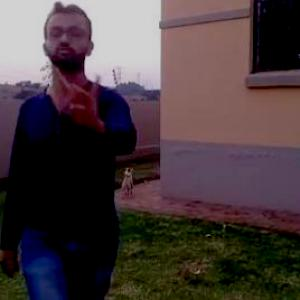takeoff-hand: (48, 60, 105, 129)
